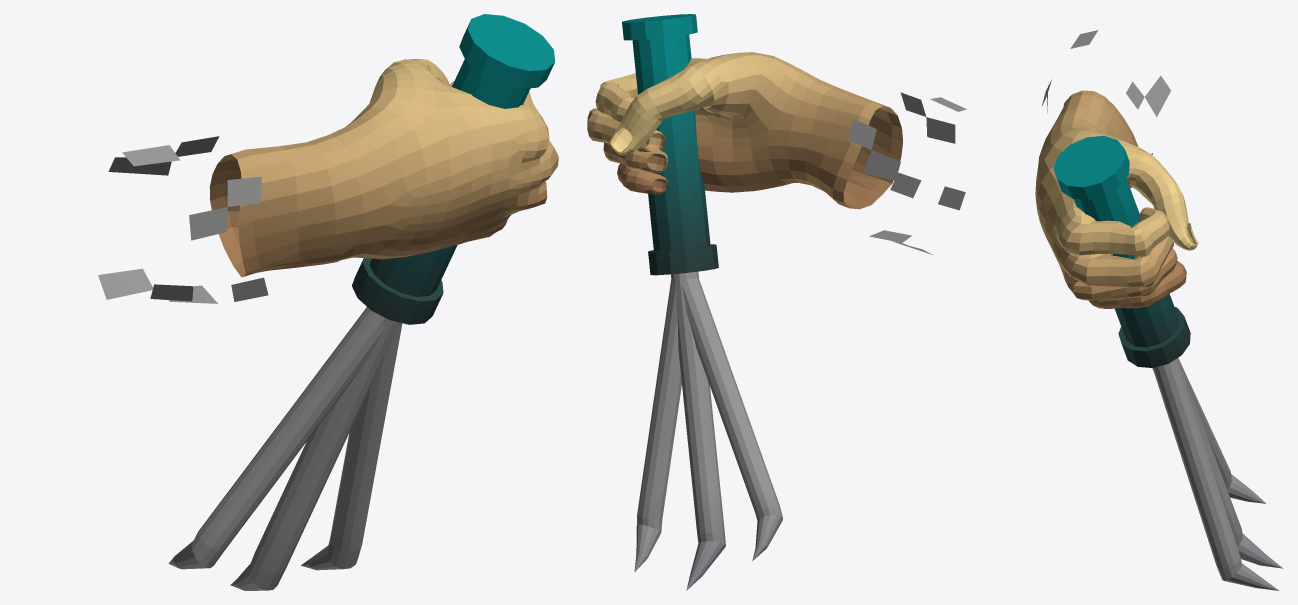
The model's file is animacion.fbx.
The picture shows the model from 3 angles, left to right: view 1: azimuth 30°, elevation 25°; view 2: azimuth 150°, elevation 25°; view 3: azimuth 270°, elevation 25°; orthographic projection. The views are drawn at different scales.
Visible parts, largest first — view 1: Cylinder.002; view 2: Cylinder.002; view 3: Cylinder.002.
Part boxes in pixels (x1,y1,x2,y2): Cylinder.002: (98,14,558,590); Cylinder.002: (587,14,966,590); Cylinder.002: (1035,30,1282,590).
Size of the model in its own units: 479 by 570 by 267.
